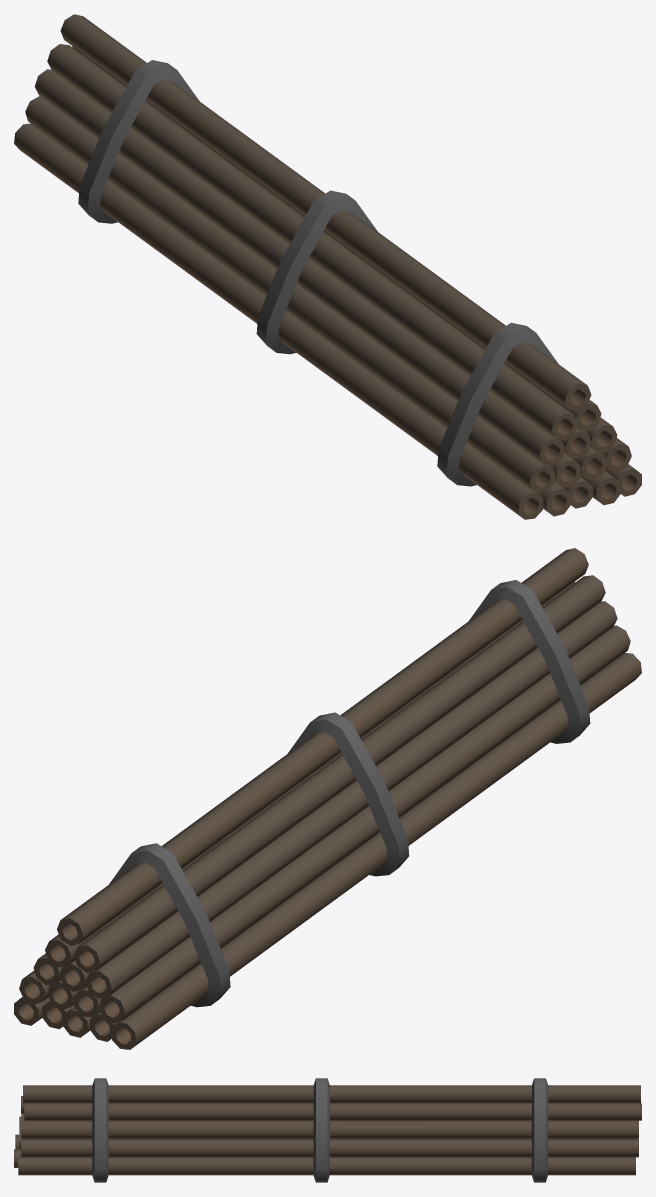
The model's file is Pipes_C_3_2.fbx.
The picture shows the model from 3 angles, top to bottom: view 1: azimuth 30°, elevation 25°; view 2: azimuth 150°, elevation 25°; view 3: azimuth 270°, elevation 25°; orthographic projection. The views are drawn at different scales.
Visible parts, largest first — view 1: Pipes_C_3_2; view 2: Pipes_C_3_2; view 3: Pipes_C_3_2.
Part boxes in pixels (left/top/right/bottom): Pipes_C_3_2: left=14, top=14, right=641, bottom=519; Pipes_C_3_2: left=14, top=548, right=641, bottom=1049; Pipes_C_3_2: left=14, top=1078, right=641, bottom=1182.
Size of the model in its own units: 90.26 by 87.4 by 560.
